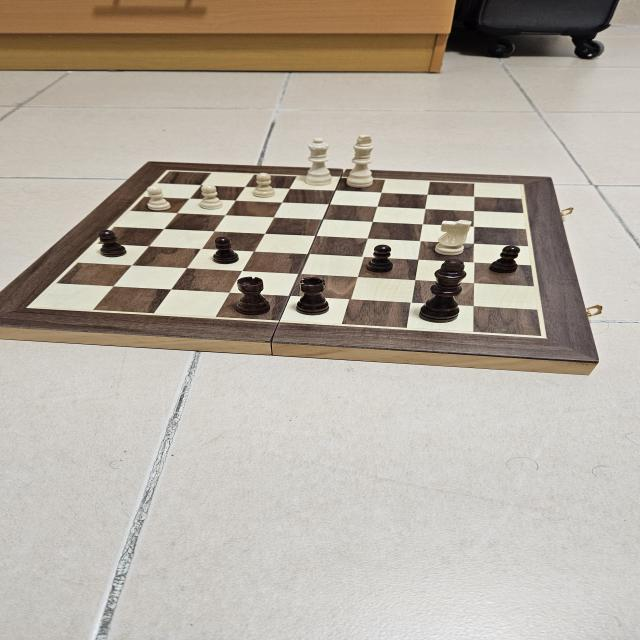chess-table-corners: (527, 332, 552, 340), (23, 303, 41, 310), (162, 168, 174, 176), (514, 182, 529, 188)
